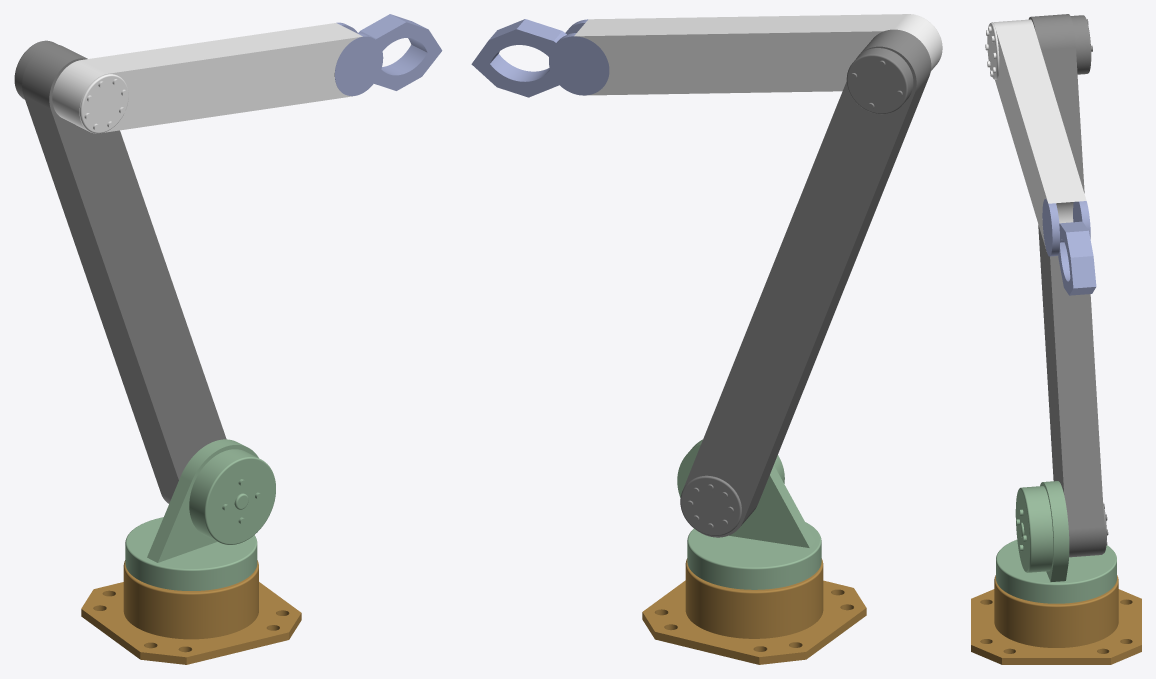
File: multi-axis-robot.glb
The picture shows the model from 3 angles, left to right: view 1: azimuth 30°, elevation 25°; view 2: azimuth 150°, elevation 25°; view 3: azimuth 270°, elevation 25°; orthographic projection. The views are drawn at different scales.
Bounding box in the file's own units: 0.7365 × 0.9964 × 0.2794.
